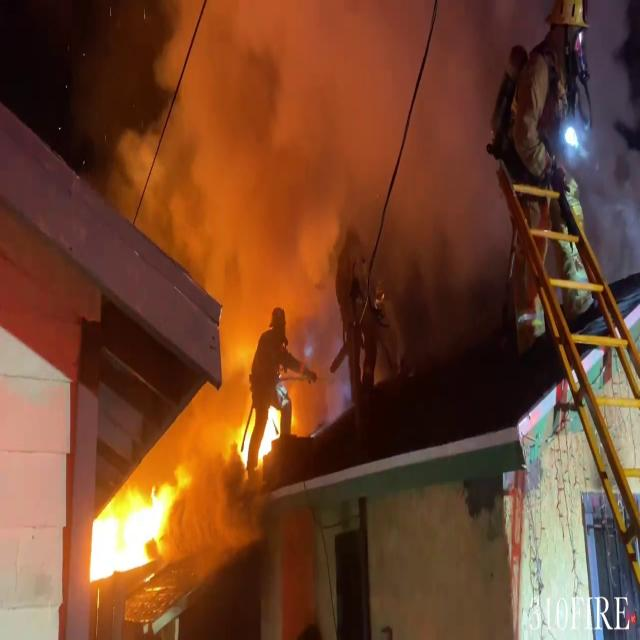Fire: (86, 462, 181, 586), (256, 396, 284, 468)
Smoke: (109, 1, 521, 315)
